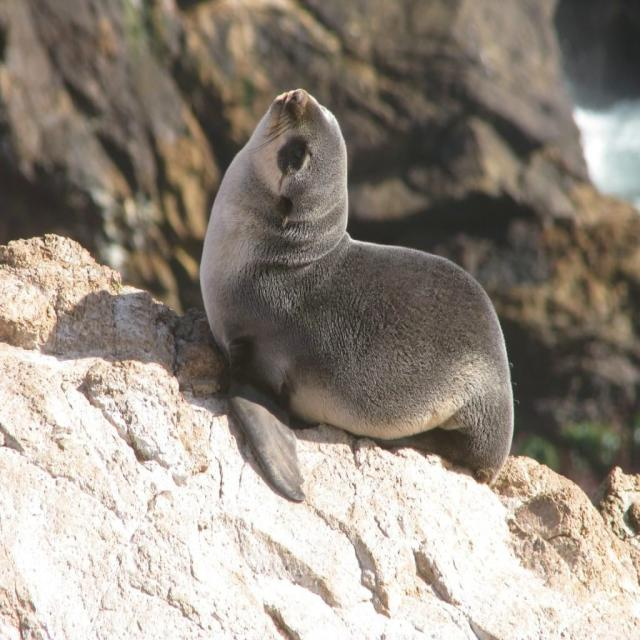seal: (200, 89, 514, 499)
